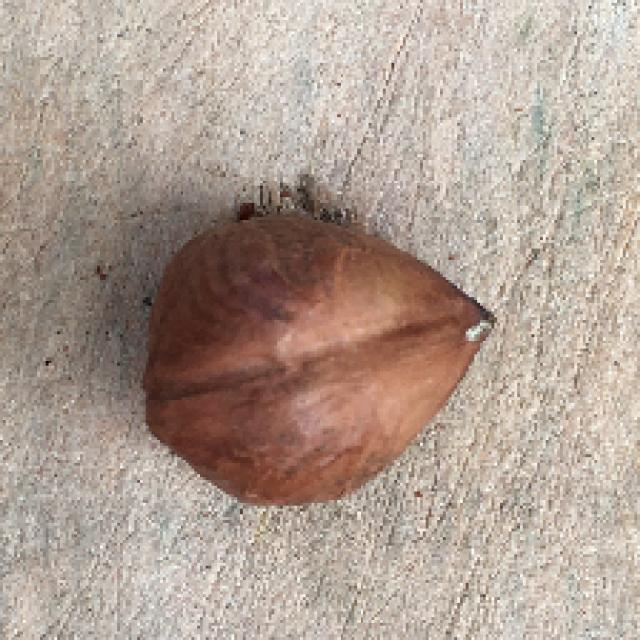hazelnut: (140, 209, 507, 512)
